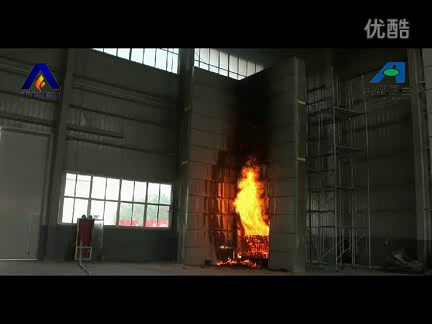fire: (233, 162, 272, 238)
